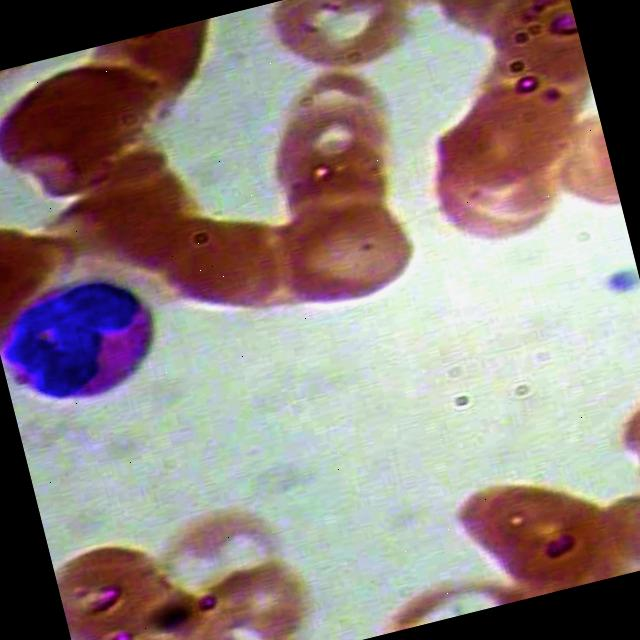Platelets: (587, 257, 640, 310)
RBC: (0, 39, 182, 216), (436, 450, 634, 608), (268, 181, 426, 325), (140, 488, 298, 632), (418, 144, 578, 266), (253, 86, 399, 199), (257, 0, 417, 94), (165, 210, 288, 326)
WBC: (0, 253, 182, 420)
